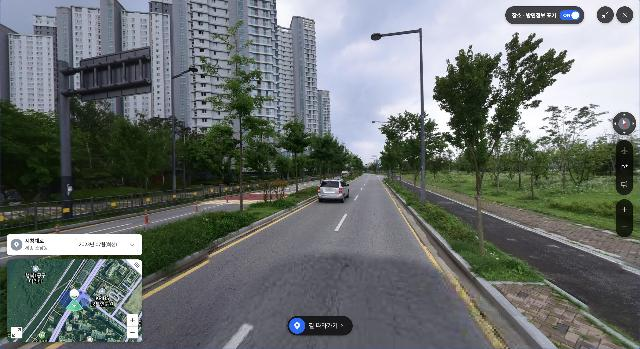other: (431, 32, 576, 256), (191, 19, 288, 212), (377, 110, 451, 214), (77, 98, 144, 201), (3, 97, 60, 214), (536, 103, 596, 201), (142, 116, 196, 197), (567, 112, 611, 192), (276, 116, 315, 200), (241, 132, 277, 194), (519, 138, 551, 196), (487, 140, 518, 191), (313, 131, 341, 183), (454, 144, 472, 189), (341, 145, 364, 175)
